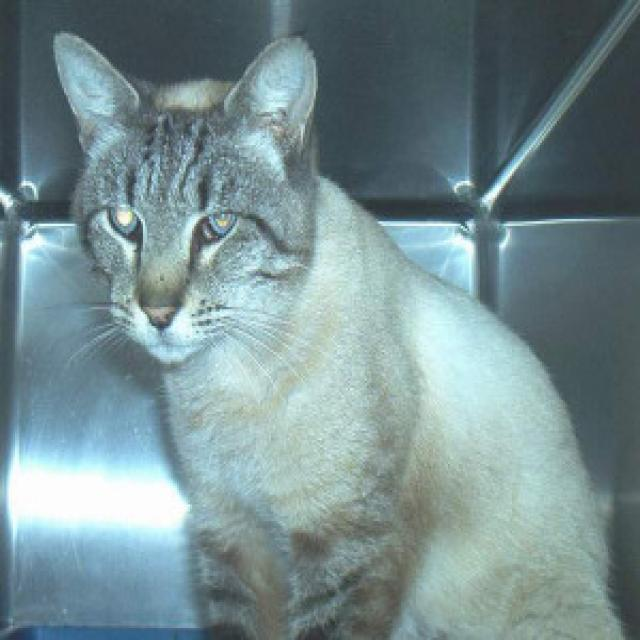Cats: (49, 26, 636, 638)
